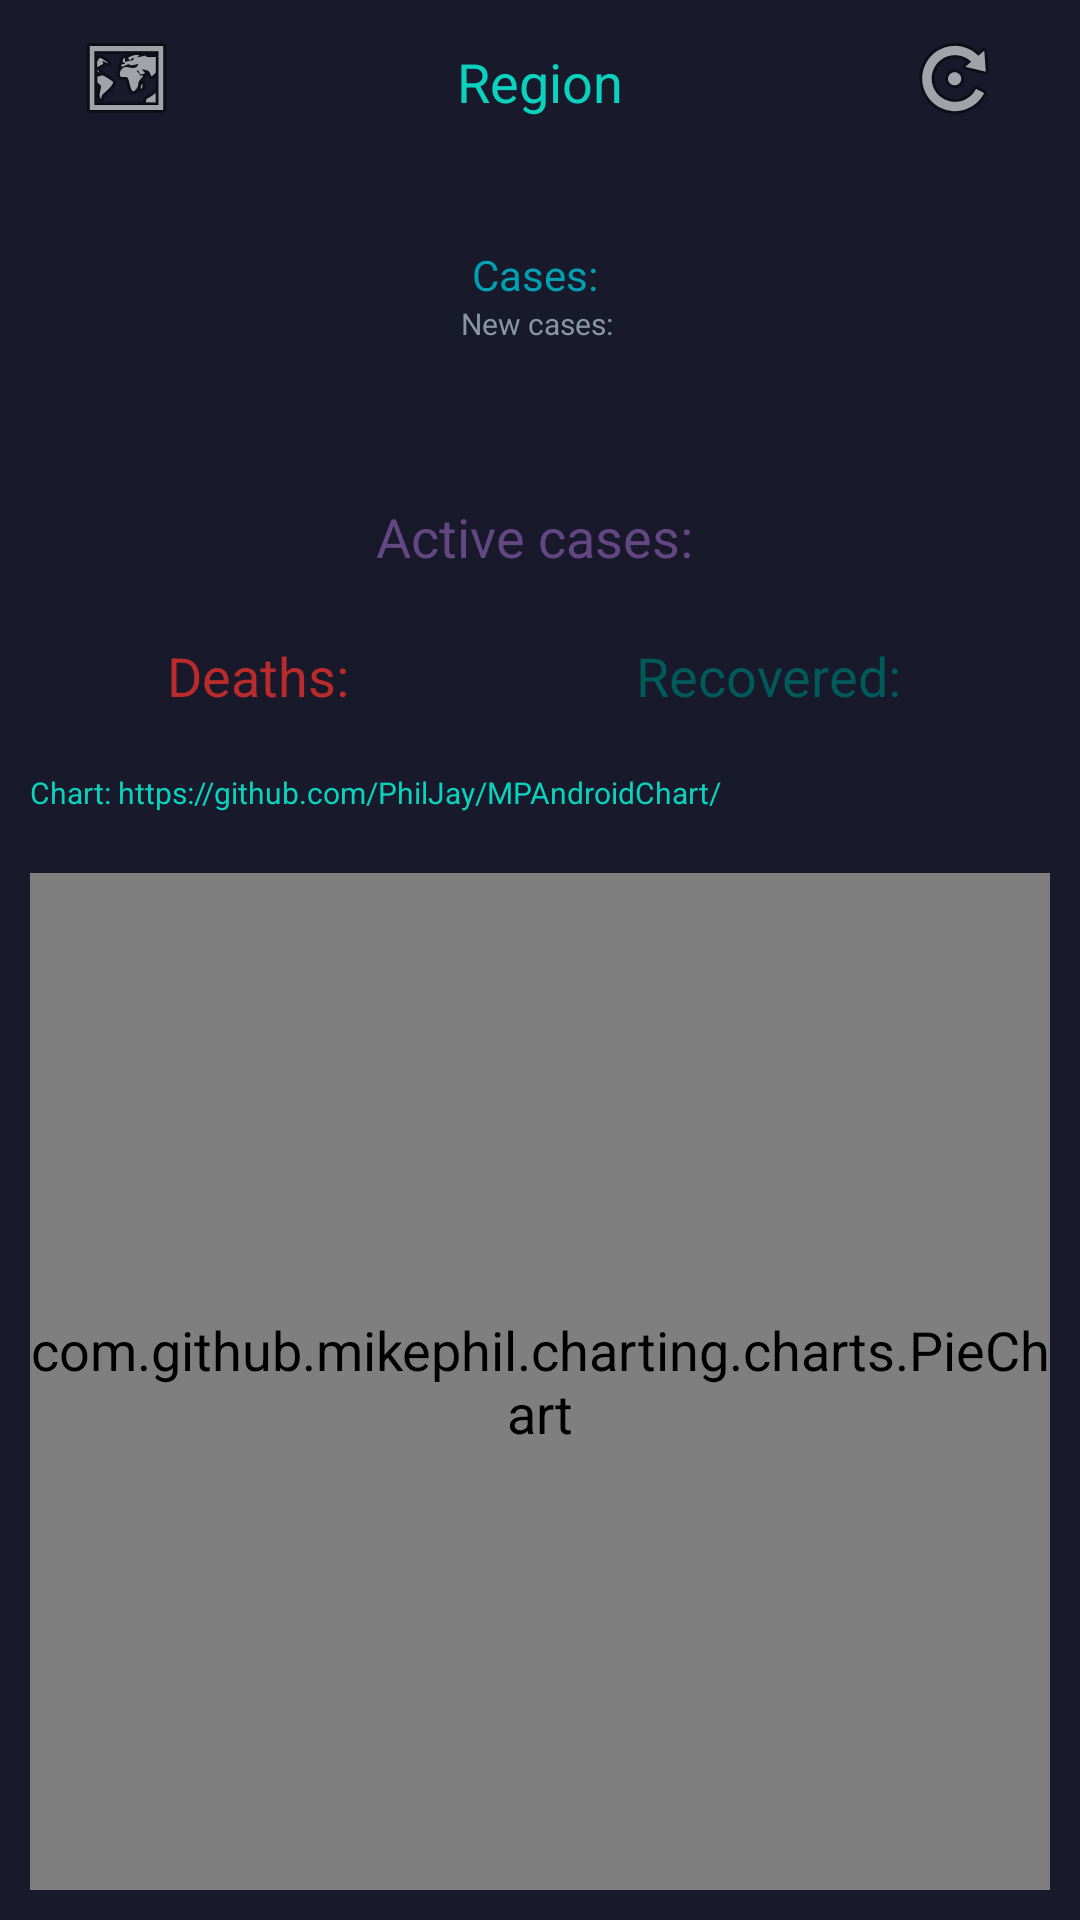

Icon bounding boxes for this 1080x1920 phone screenshot, format [x1,y1,x2,y2]:
mapmode: [90,45,163,111]
rotate: [921,45,987,112]
